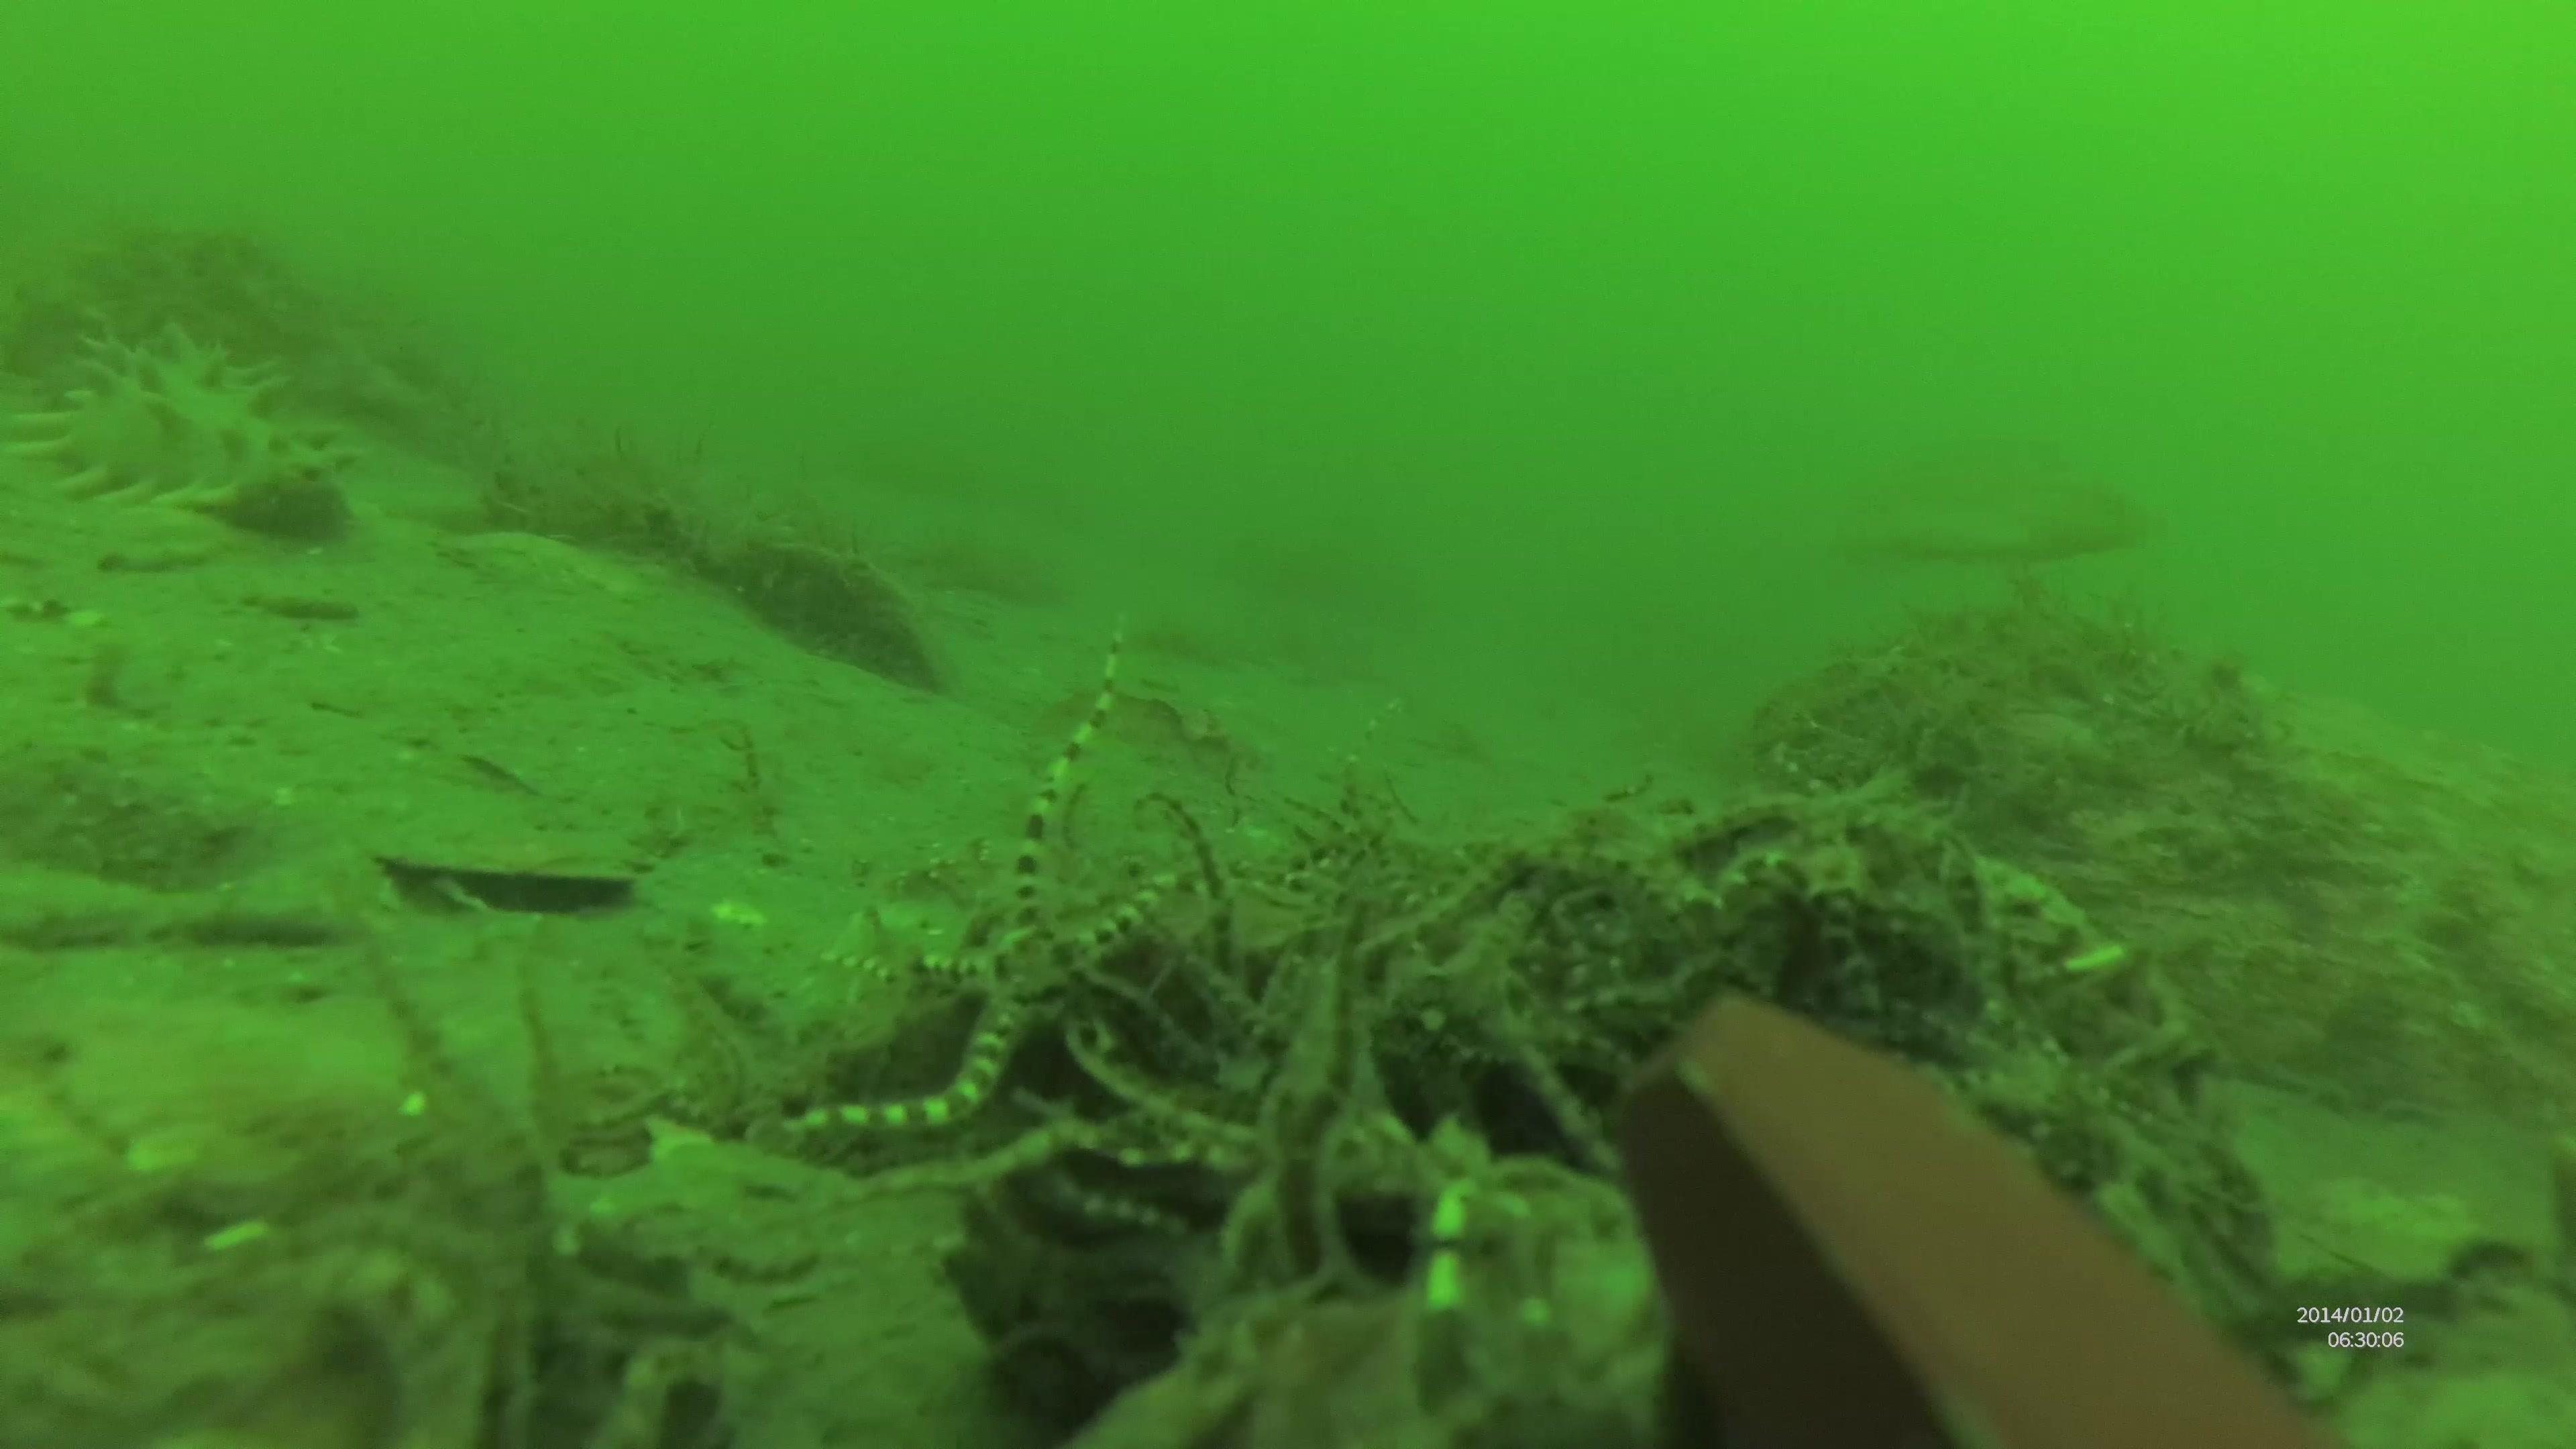holothurian: (32, 331, 368, 547)
